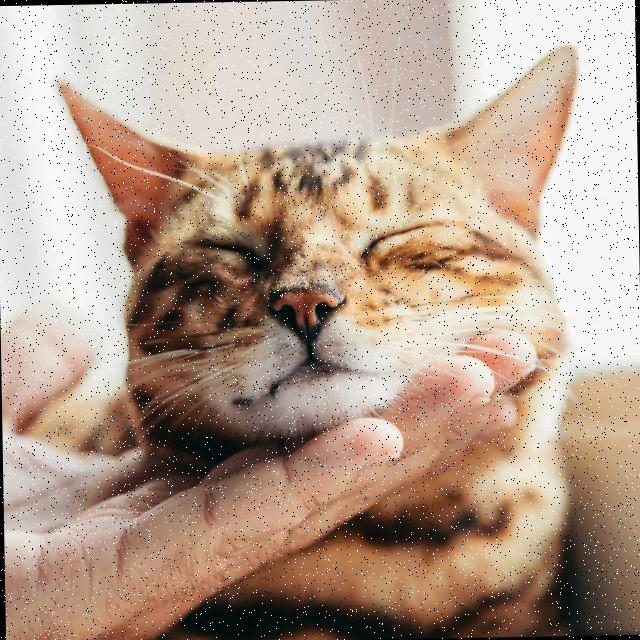Happy: (132, 167, 483, 432)
